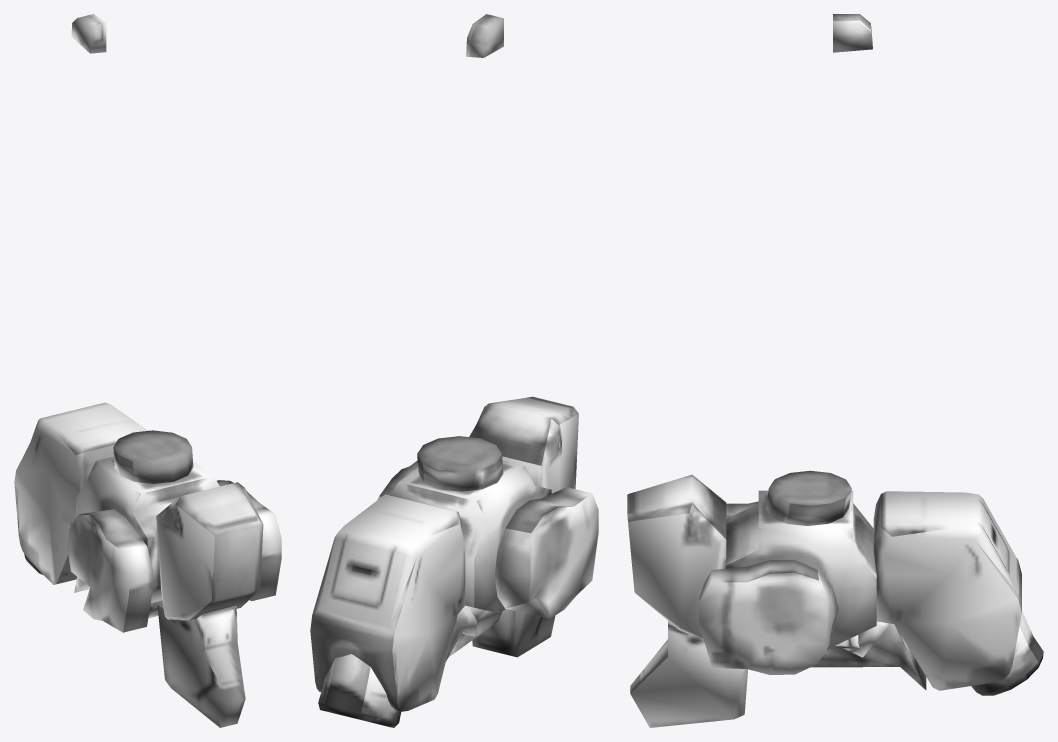
File: pelvis.glb
3 renders of one model, left to right at view 1: azimuth 30°, elevation 25°; view 2: azimuth 150°, elevation 25°; view 3: azimuth 270°, elevation 25°, orthographic. The views are drawn at different scales.
Visible parts, largest first — view 1: pelvis; view 2: pelvis; view 3: pelvis.
Boxes of the visible parts, x1,y1,x2,y2 form: pelvis: (14,14,281,727); pelvis: (310,14,598,727); pelvis: (627,14,1043,727).
Size of the model in its own units: 1.35 by 5.22 by 2.89.
3 materials, 3 textured.
